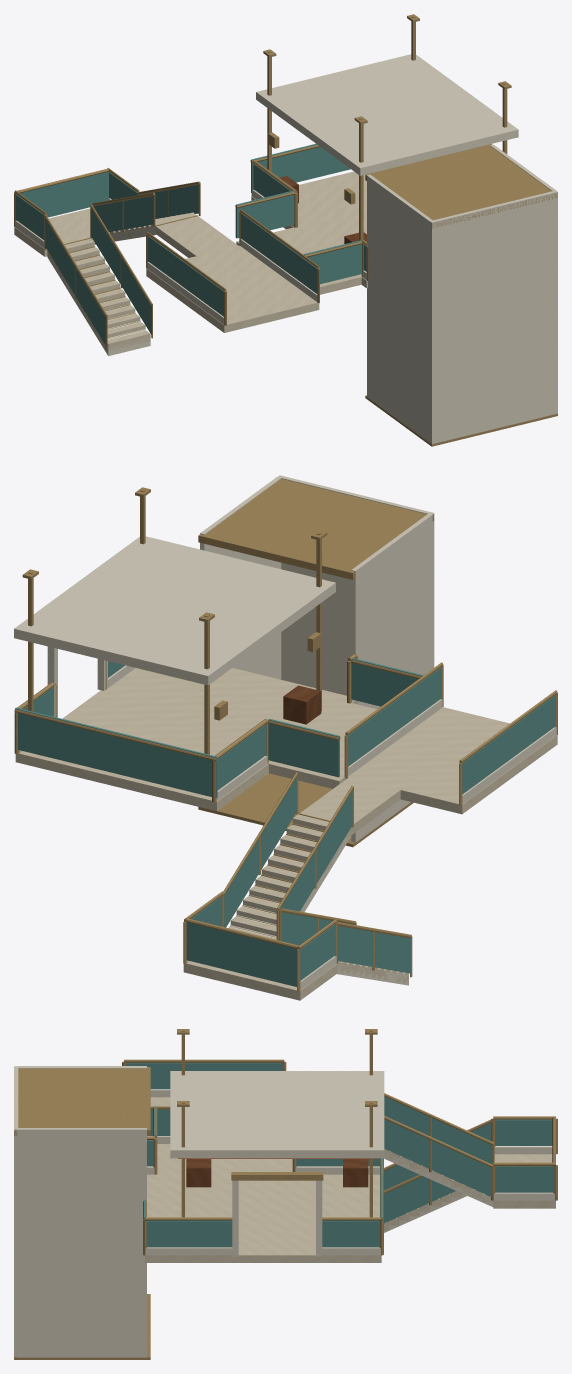
The model's file is AST-TRM-G4-014_central_source.glb.
3 renders of one model, top to bottom at view 1: azimuth 30°, elevation 25°; view 2: azimuth 150°, elevation 25°; view 3: azimuth 270°, elevation 25°, orthographic. The views are drawn at different scales.
Visible parts, largest first — view 1: V2_Central__BoardingLift_Rear, V2__CENTRAL__LocalCanopy, V2_Central__BoardingLift_HousingSide_-7.7, V2_Central__BoardingLift_Header, V2_Central__Emergency_TopApproach, V2_Central_BoardingFloor, V2_Central__Emergency_MidLanding_NorthInfill, V2_Central__Upper_Approach_Inner_infill, V2_Central_NorthEnd_infill, V2_Central__Emergency_UpperLanding, V2_Central__Upper_Approach_Outer_infill, V2_Central__Emergency_Inclined_Guard_0_-4.96 (+15 smaller); view 2: V2__CENTRAL__LocalCanopy, V2_Central_BoardingFloor, V2_Central__BoardingLift_Header, V2_Central__BoardingLift_HousingSide_-7.7, V2_Central__Emergency_TopApproach, V2_Central_NorthEnd_infill, V2_Central__BoardingLift_Rear, V2_Central__Emergency_MidLanding_NorthInfill, V2_Central__Upper_Approach_Outer_infill, V2_Central__Upper_Approach_Inner_infill, V2_Central__BoardingLift_PitPan, V2_Central_StairReturnGuard_-72.5_infill (+19 smaller); view 3: V2_Central__BoardingLift_HousingSide_-3.5, V2__CENTRAL__LocalCanopy, V2_Central_BoardingFloor, V2_Central__BoardingLift_Header, V2_Central__Emergency_Inclined_Guard_1_-2.26, V2_Central_Tram_-70.8_infill, V2_Central__Emergency_Inclined_Guard_1_-4.84, V2_Central__Emergency_Inclined_Guard_0_-4.96, V2_Central_StairReturn, V2_Central_Tram_-75_infill, V2_Central__Emergency_MidLanding_Side_-2.27_infill, V2_Central__Emergency_MidLanding_Side_-7.53_infill (+22 smaller).
Part boxes in pixels (x1,y1,x2,y2): V2_Central__BoardingLift_Rear: (430, 190, 557, 444); V2__CENTRAL__LocalCanopy: (256, 54, 518, 175); V2_Central__BoardingLift_HousingSide_-7.7: (367, 174, 432, 442); V2_Central__BoardingLift_Header: (365, 144, 557, 228); V2_Central__Emergency_TopApproach: (146, 245, 319, 332); V2_Central_BoardingFloor: (251, 171, 367, 288); V2_Central__Emergency_MidLanding_NorthInfill: (16, 171, 109, 220); V2_Central__Upper_Approach_Inner_infill: (241, 213, 317, 293); V2_Central_NorthEnd_infill: (251, 143, 350, 193); V2_Central__Emergency_UpperLanding: (156, 216, 238, 257); V2_Central__Upper_Approach_Outer_infill: (148, 236, 223, 316); V2_Central__Emergency_Inclined_Guard_0_-4.96: (91, 208, 151, 334); V2__CENTRAL__LocalCanopy: (14, 536, 335, 685); V2_Central_BoardingFloor: (15, 668, 358, 811); V2_Central__BoardingLift_Header: (198, 479, 434, 579); V2_Central__BoardingLift_HousingSide_-7.7: (351, 513, 432, 842); V2_Central__Emergency_TopApproach: (345, 707, 557, 814); V2_Central_NorthEnd_infill: (15, 707, 217, 797); V2_Central__BoardingLift_Rear: (278, 475, 434, 695); V2_Central__Emergency_MidLanding_NorthInfill: (186, 922, 300, 986); V2_Central__Upper_Approach_Outer_infill: (462, 695, 555, 794); V2_Central__Upper_Approach_Inner_infill: (348, 667, 441, 766); V2_Central__BoardingLift_PitPan: (198, 773, 413, 847); V2_Central_StairReturnGuard_-72.5_infill: (268, 718, 339, 777); V2_Central__BoardingLift_HousingSide_-3.5: (17, 1128, 146, 1357); V2__CENTRAL__LocalCanopy: (170, 1071, 384, 1158); V2_Central_BoardingFloor: (145, 1173, 381, 1262); V2_Central__BoardingLift_Header: (14, 1067, 150, 1135); V2_Central__Emergency_Inclined_Guard_1_-2.26: (384, 1119, 491, 1196); V2_Central_Tram_-70.8_infill: (146, 1220, 232, 1247); V2_Central__Emergency_Inclined_Guard_1_-4.84: (384, 1096, 492, 1164); V2_Central__Emergency_Inclined_Guard_0_-4.96: (383, 1176, 455, 1223); V2_Central_StairReturn: (157, 1144, 292, 1172); V2_Central_Tram_-75_infill: (322, 1220, 379, 1247); V2_Central__Emergency_MidLanding_Side_-2.27_infill: (495, 1166, 554, 1192); V2_Central__Emergency_MidLanding_Side_-7.53_infill: (495, 1119, 552, 1145).
Size of the model in its own units: 10.9 by 8.63 by 15.62.
6 materials, 4 textured.
